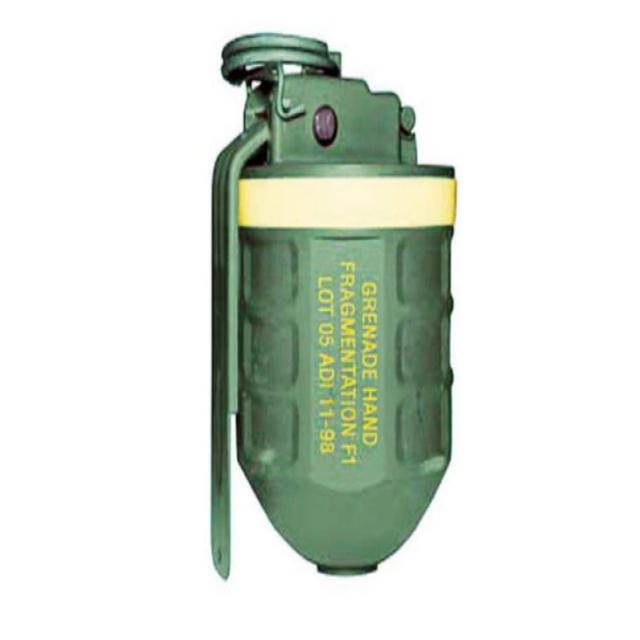grenade: (213, 35, 458, 584)
